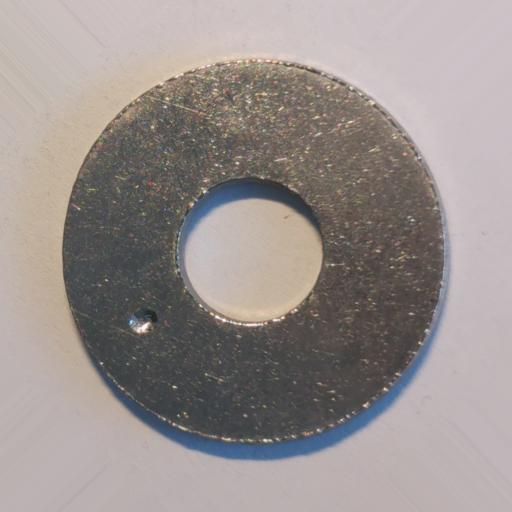circular_cavity: (128, 310, 159, 336)
